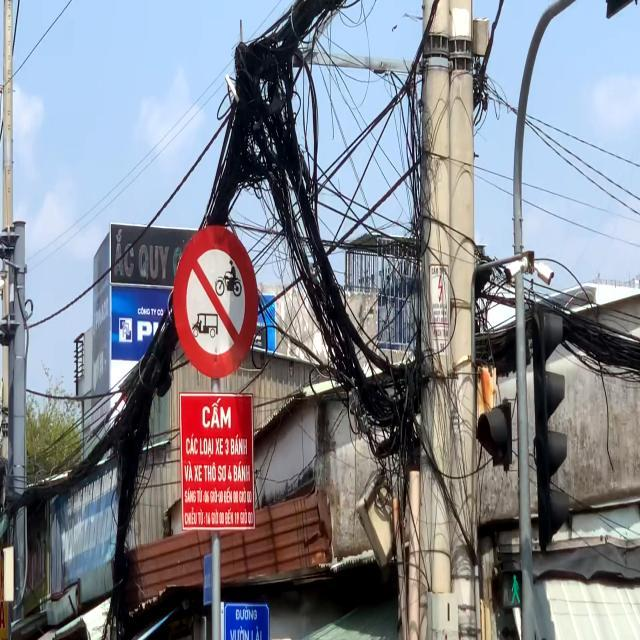P-104: (172, 224, 256, 378)
